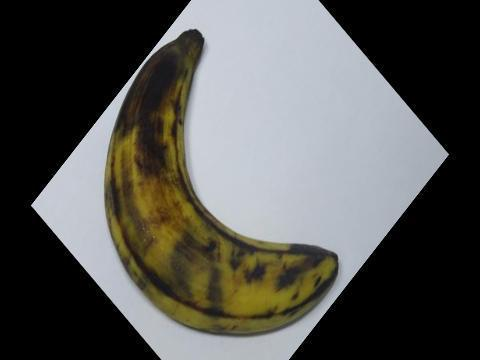overripe: (87, 19, 356, 344)
